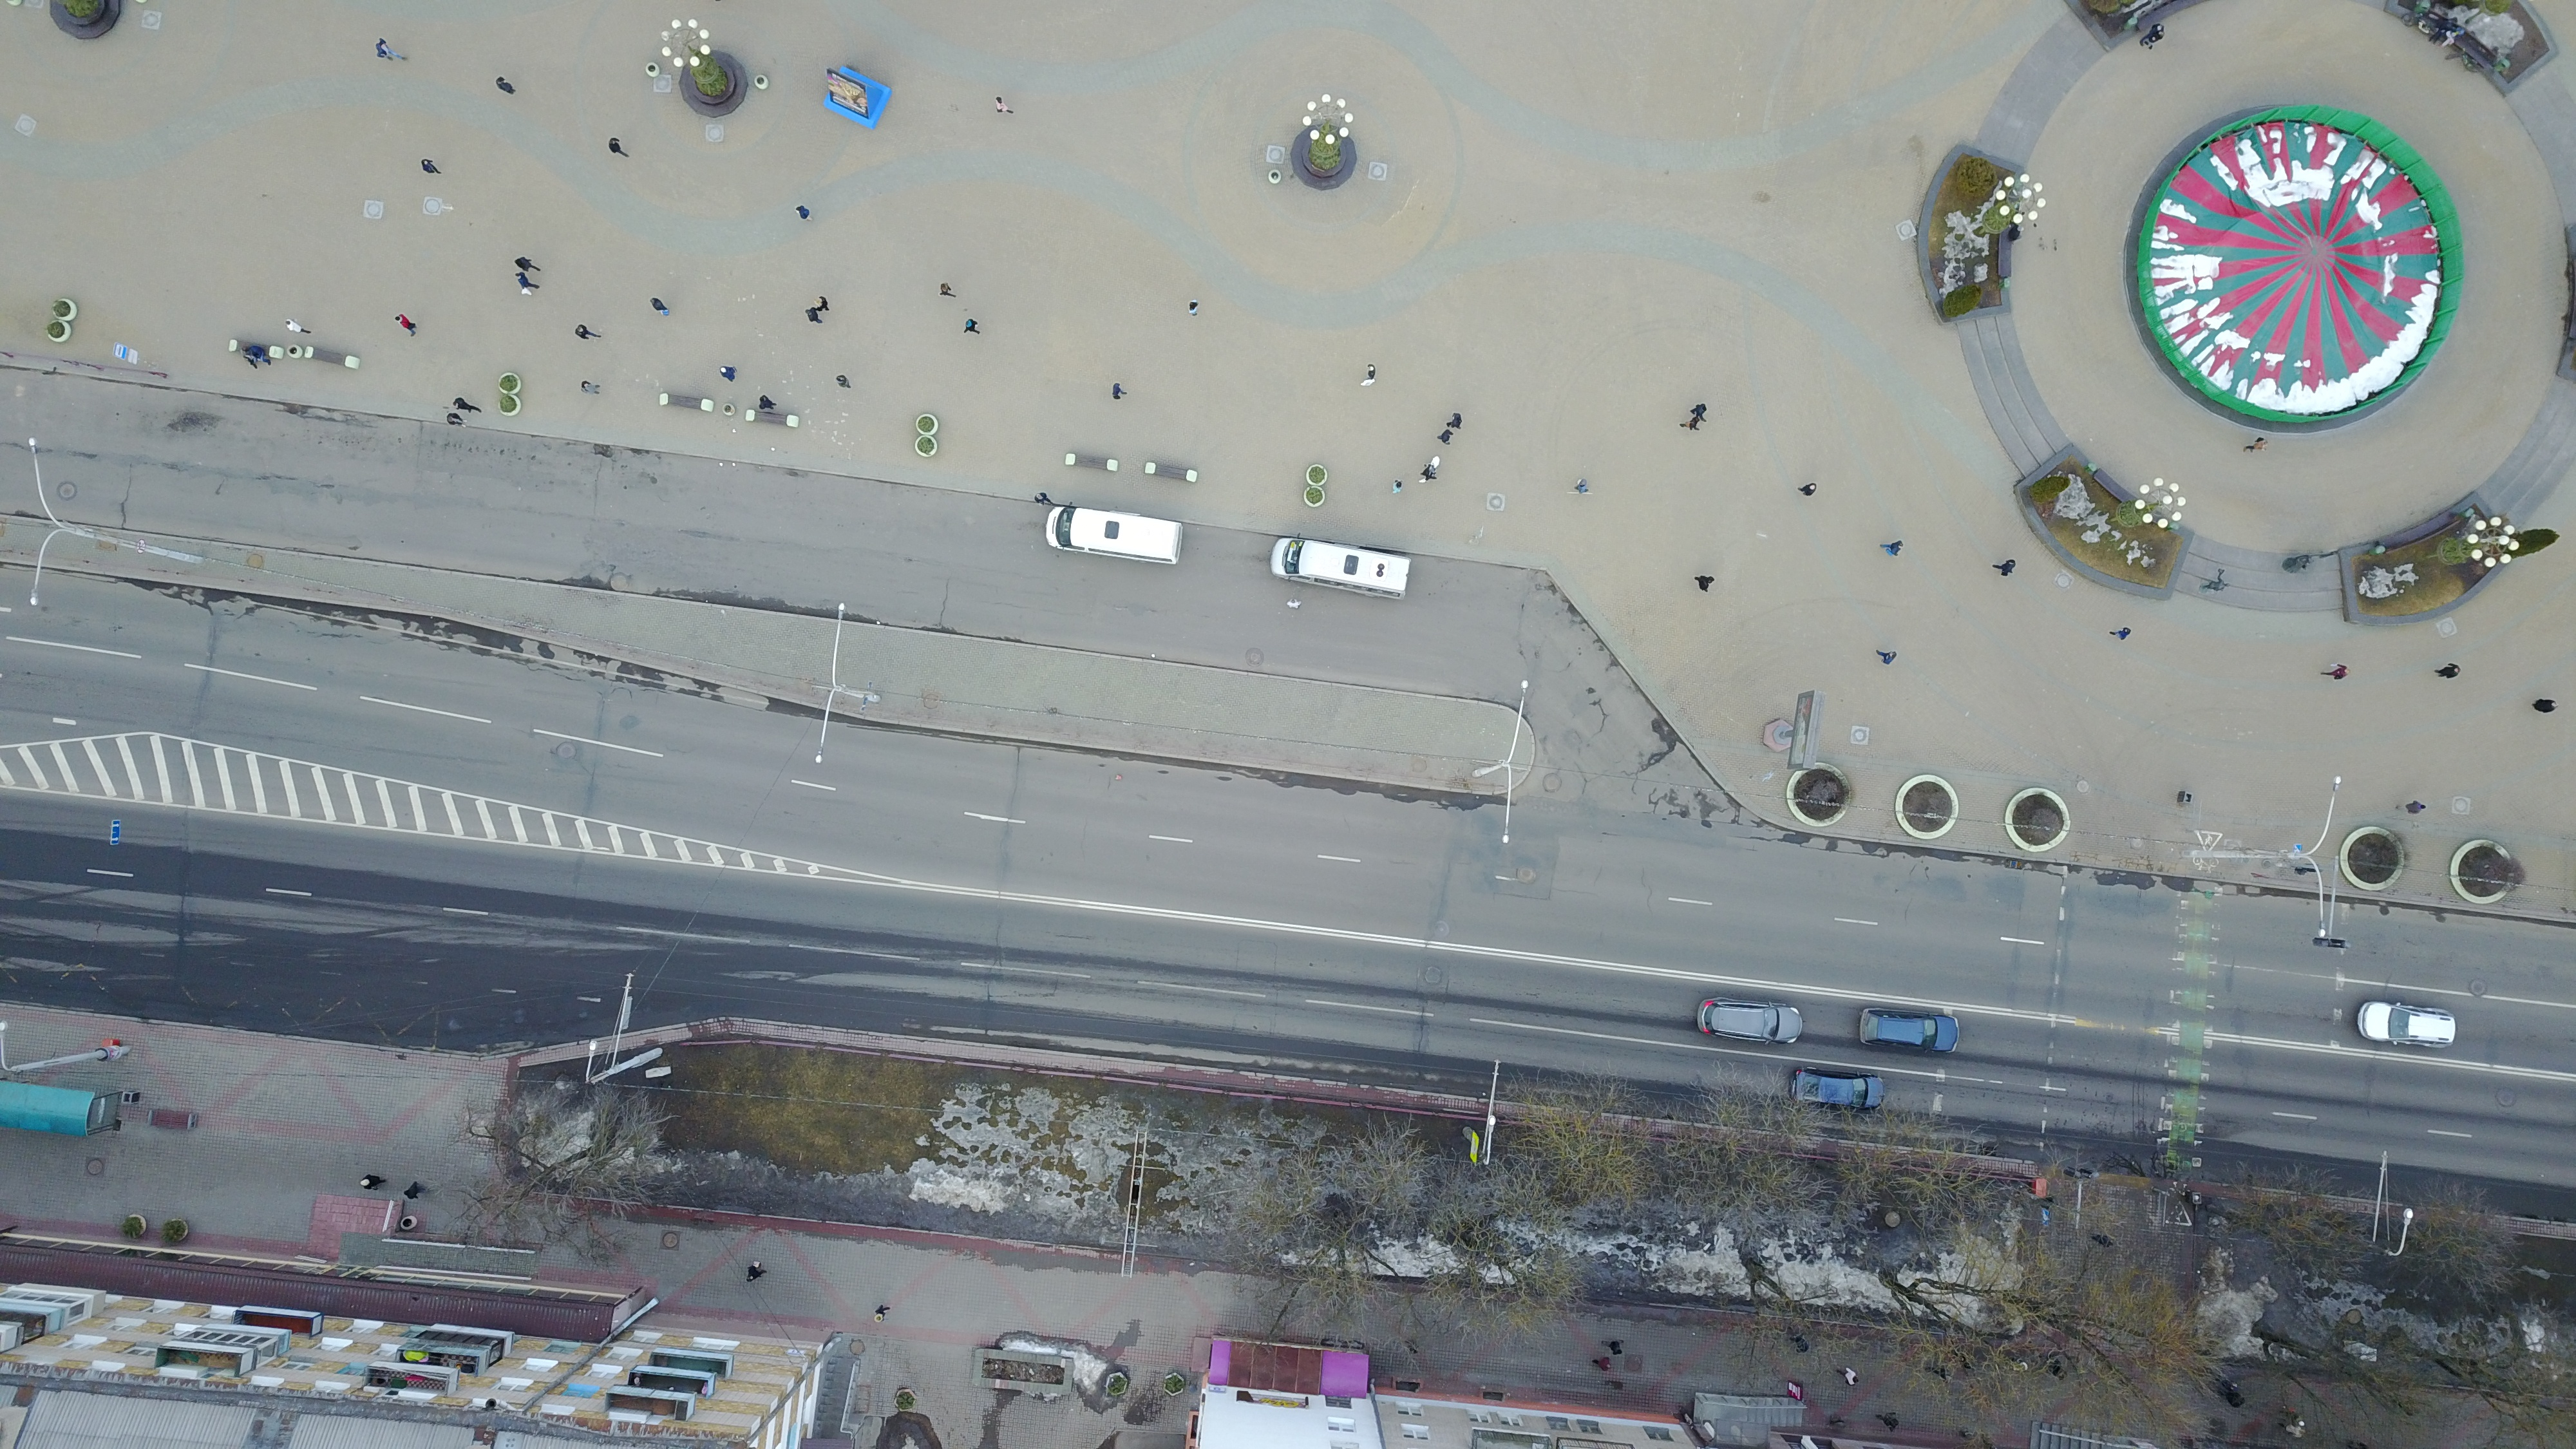car: (2353, 994, 2461, 1056), (1695, 993, 1805, 1049), (1858, 1005, 1962, 1062), (1789, 1062, 1884, 1118)
